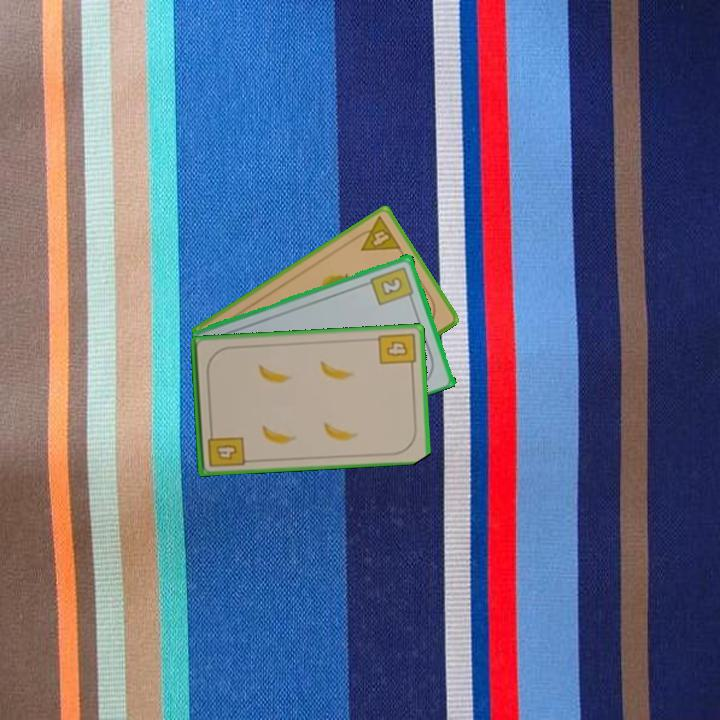2b: (367, 263, 417, 308)
4b: (204, 425, 247, 470), (375, 329, 418, 373)
4p: (350, 213, 404, 254)
